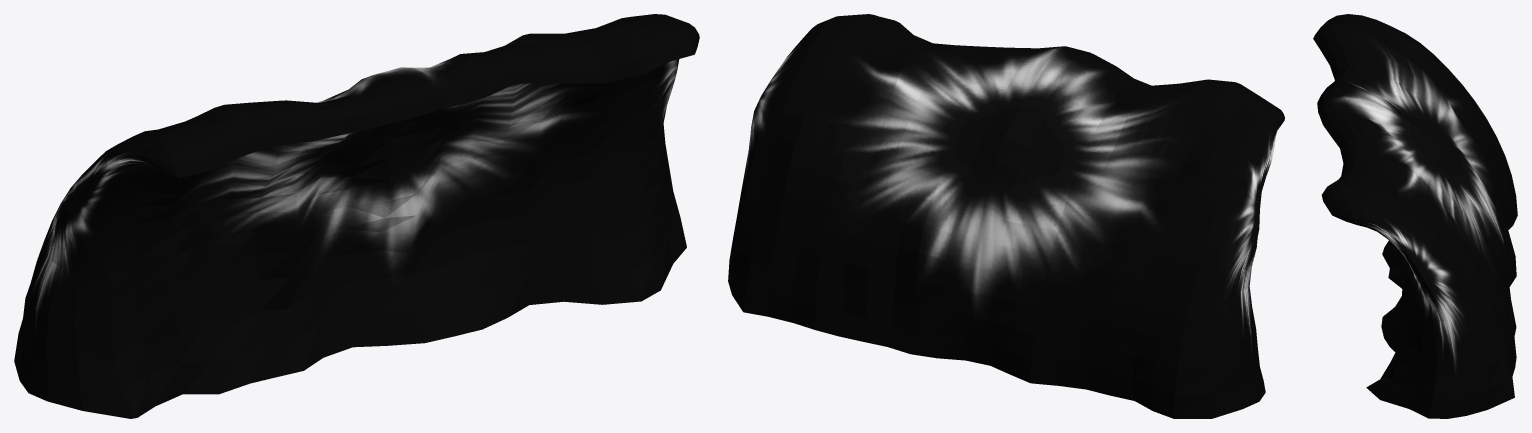
Rendered from 0305_hailang.glb.
3 views of the same model, side by side, from view 1: azimuth 30°, elevation 25°; view 2: azimuth 150°, elevation 25°; view 3: azimuth 270°, elevation 25° (orthographic). The views are drawn at different scales.
Size of the model in its own units: 2.2 by 1.02 by 0.854.
1 material, 1 textured.
